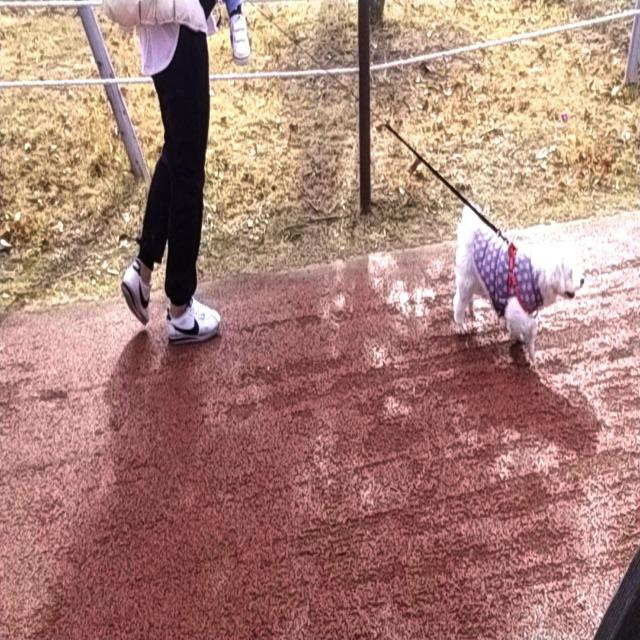Leashed_Dog: (167, 0, 585, 367)
